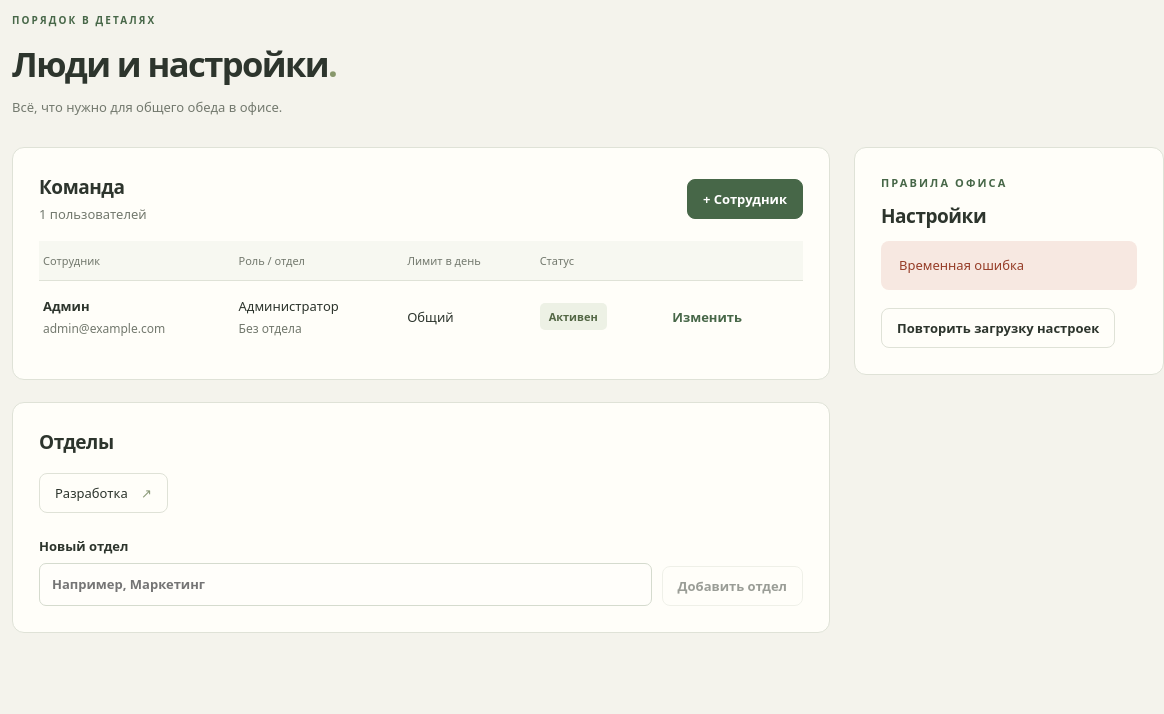
Test: retries settings without blocking people or departments
Check: the message reads "Временная ошибка", box [899,256,1024,274]
Check: the button "+ Сотрудник" is enabled, box [687,179,803,219]
Click the button "Повторить загрузку настроек". click: (998, 328)
box: [881,308,1115,348]
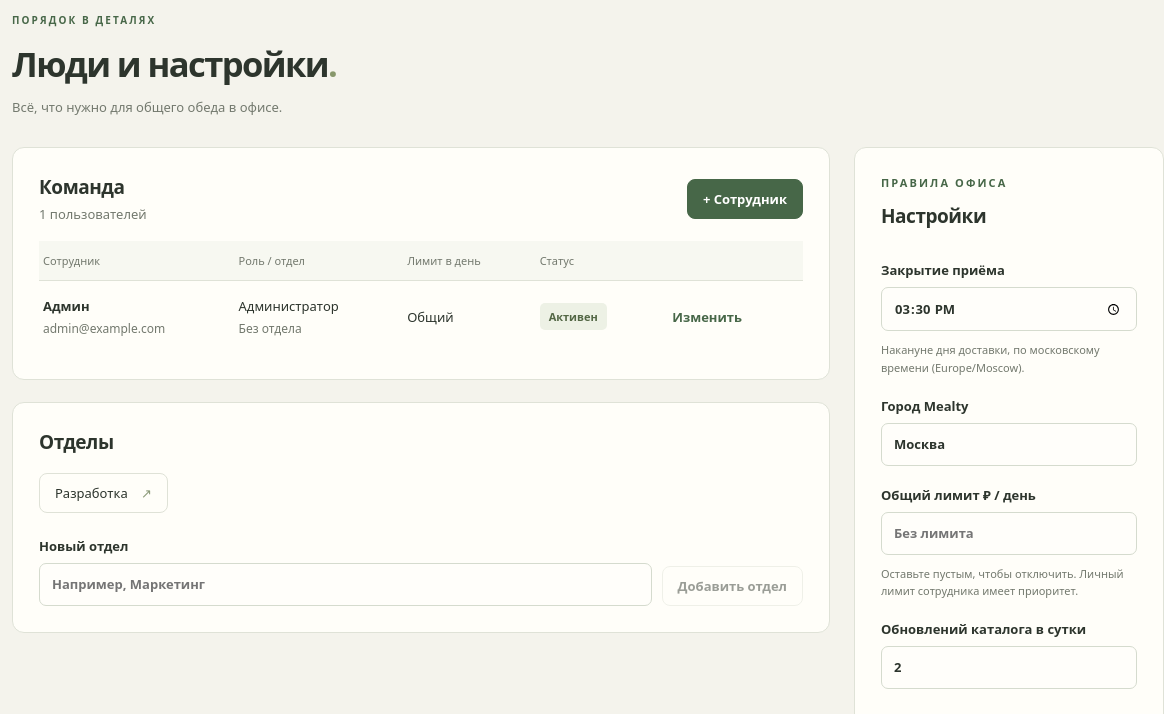
Check: the time field labelled "Закрытие приёма" holds "15:30", box [881,287,1137,331]
